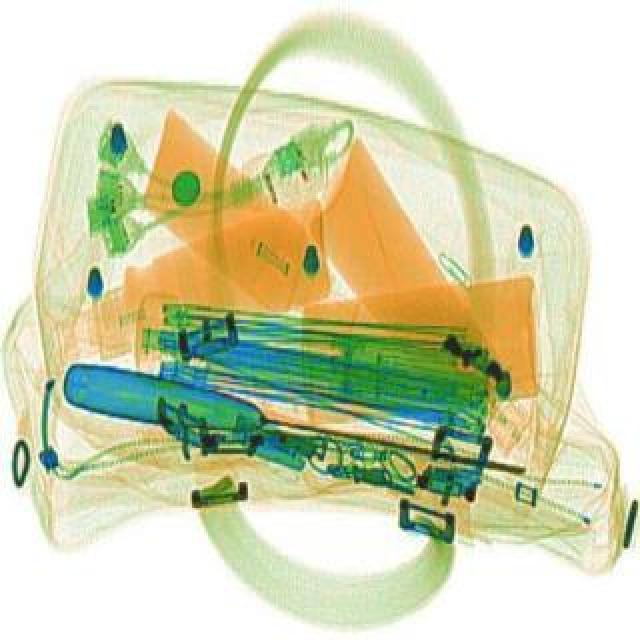knife: (58, 356, 528, 492)
